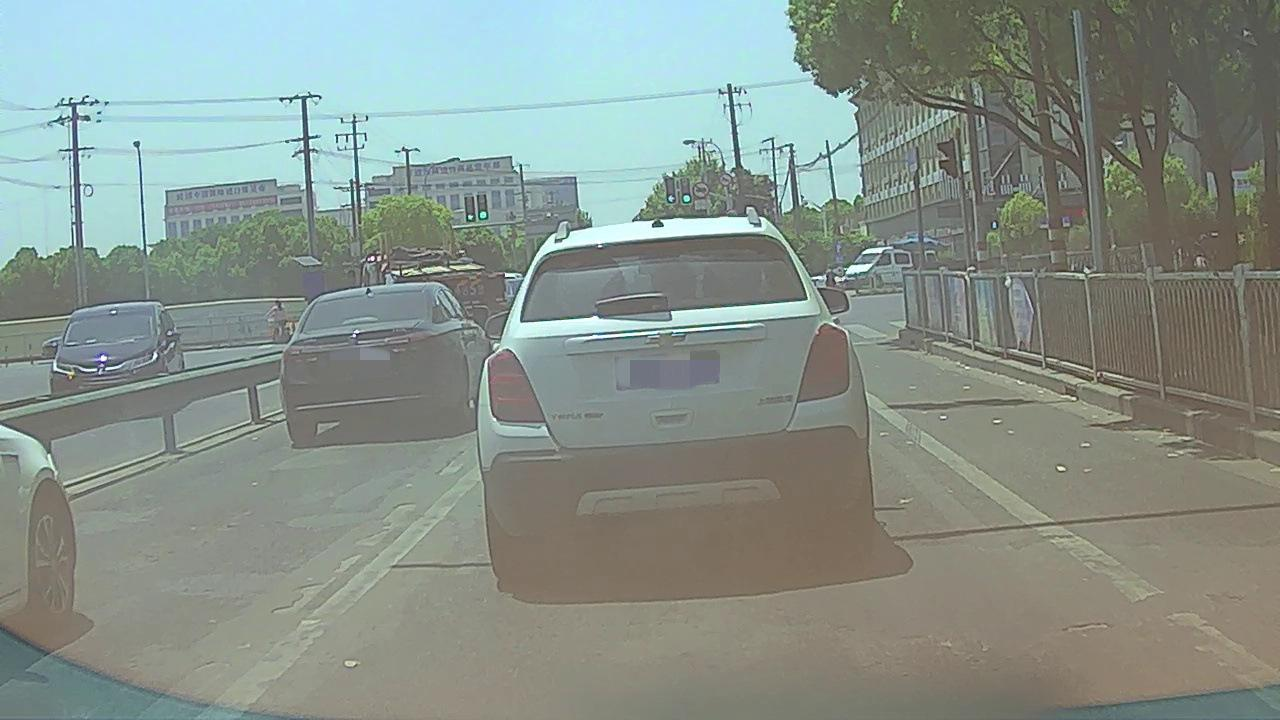traffic_light: (666, 179, 675, 204), (466, 197, 474, 221), (479, 195, 487, 219), (682, 180, 690, 203)
